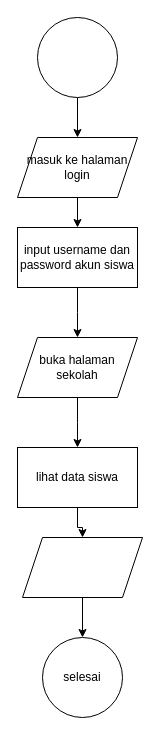
This 160x735 diagram has some shape labels left out. The box of each missing label's shape, as (x1, y1, x2, y2) in pixels:
logout: (22, 536, 142, 598)
mulai: (36, 16, 118, 98)
